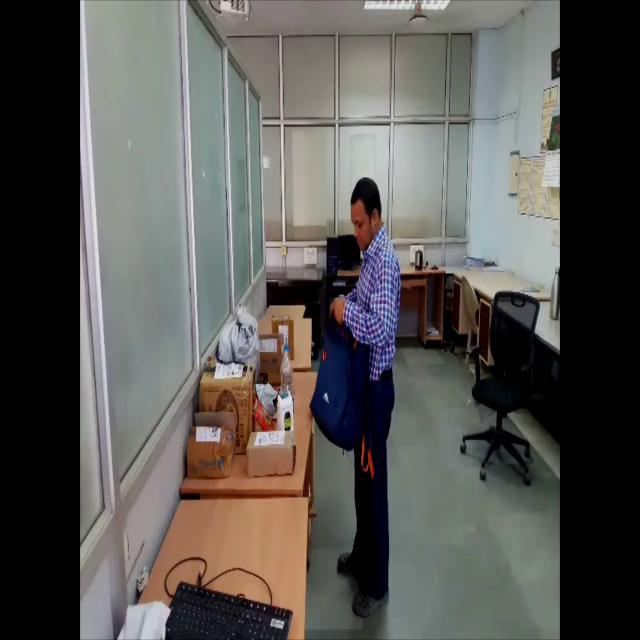shoplifting: (310, 170, 404, 631)
